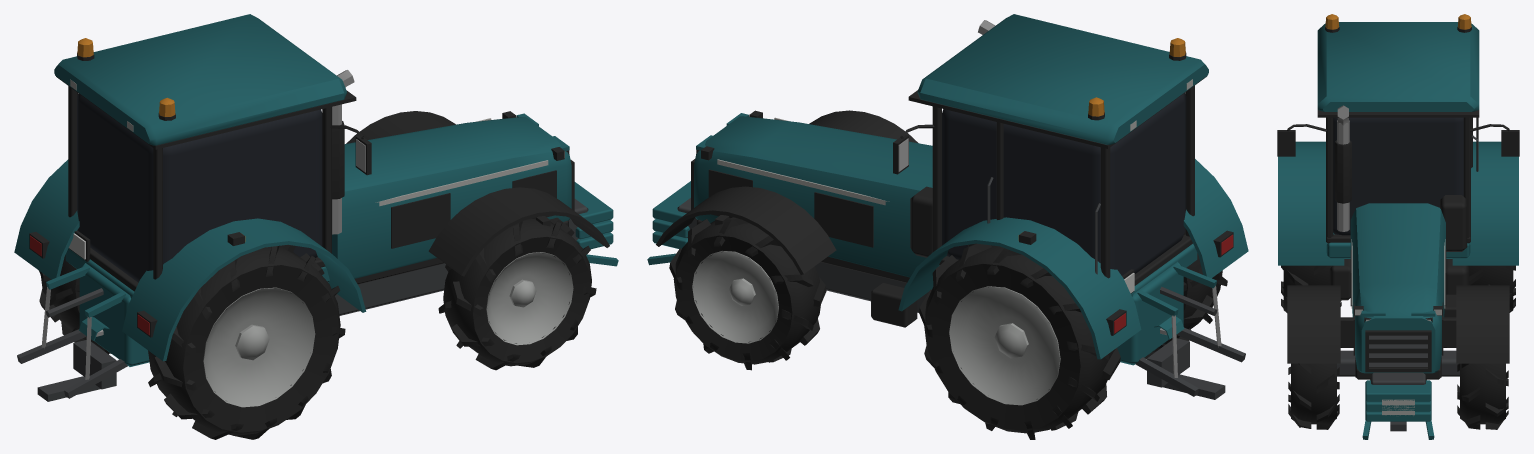
File: SM_Prop_farm_tractor_0_LOD1.glb
3 renders of one model, left to right at view 1: azimuth 30°, elevation 25°; view 2: azimuth 150°, elevation 25°; view 3: azimuth 270°, elevation 25°, orthographic. The views are drawn at different scales.
Parts seen in each view (by area): view 1: SM_Prop_farm_tractor_0_LOD1; view 2: SM_Prop_farm_tractor_0_LOD1; view 3: SM_Prop_farm_tractor_0_LOD1.
Boxes of the visible parts, <box> form: SM_Prop_farm_tractor_0_LOD1: <box>14,14,618,439</box>; SM_Prop_farm_tractor_0_LOD1: <box>647,14,1248,439</box>; SM_Prop_farm_tractor_0_LOD1: <box>1277,14,1519,439</box>.
Size of the model in its own units: 5.65 by 3.31 by 2.64.
